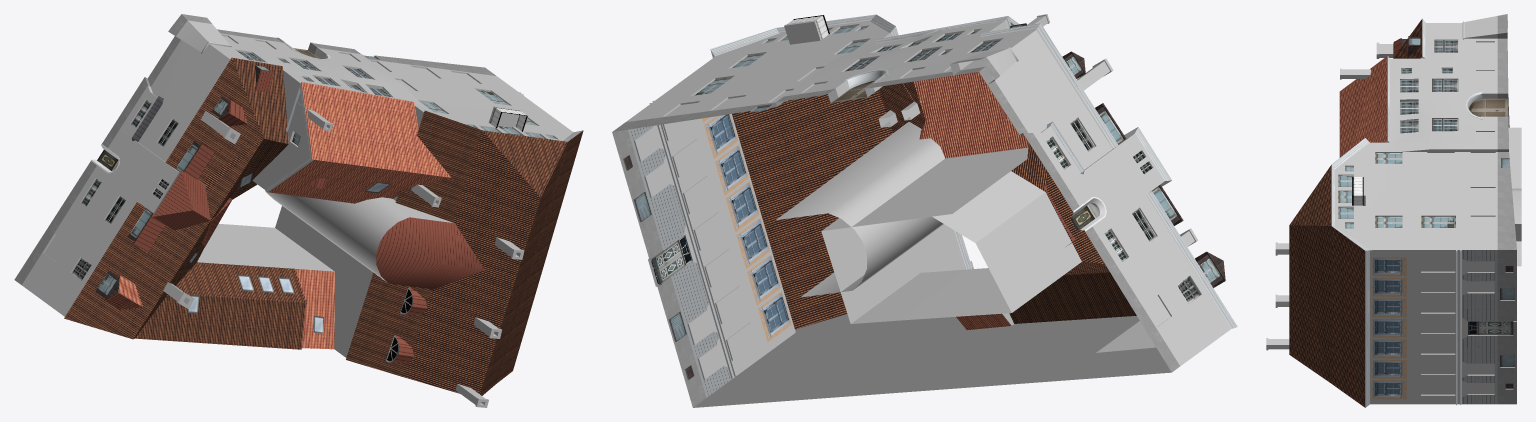
The model's file is Lai_45.obj.
3 views of the same model, side by side, from view 1: azimuth 30°, elevation 25°; view 2: azimuth 150°, elevation 25°; view 3: azimuth 270°, elevation 25° (orthographic). The views are drawn at different scales.
Visible parts, largest first — view 1: Lai_45; view 2: Lai_45; view 3: Lai_45.
Part boxes in pixels (box(x1,y1,x2,y2)): Lai_45: box(14, 14, 583, 407); Lai_45: box(612, 14, 1237, 407); Lai_45: box(1266, 14, 1521, 407).
Bounding box in the file's own units: 41.48 × 28.91 × 22.75.
